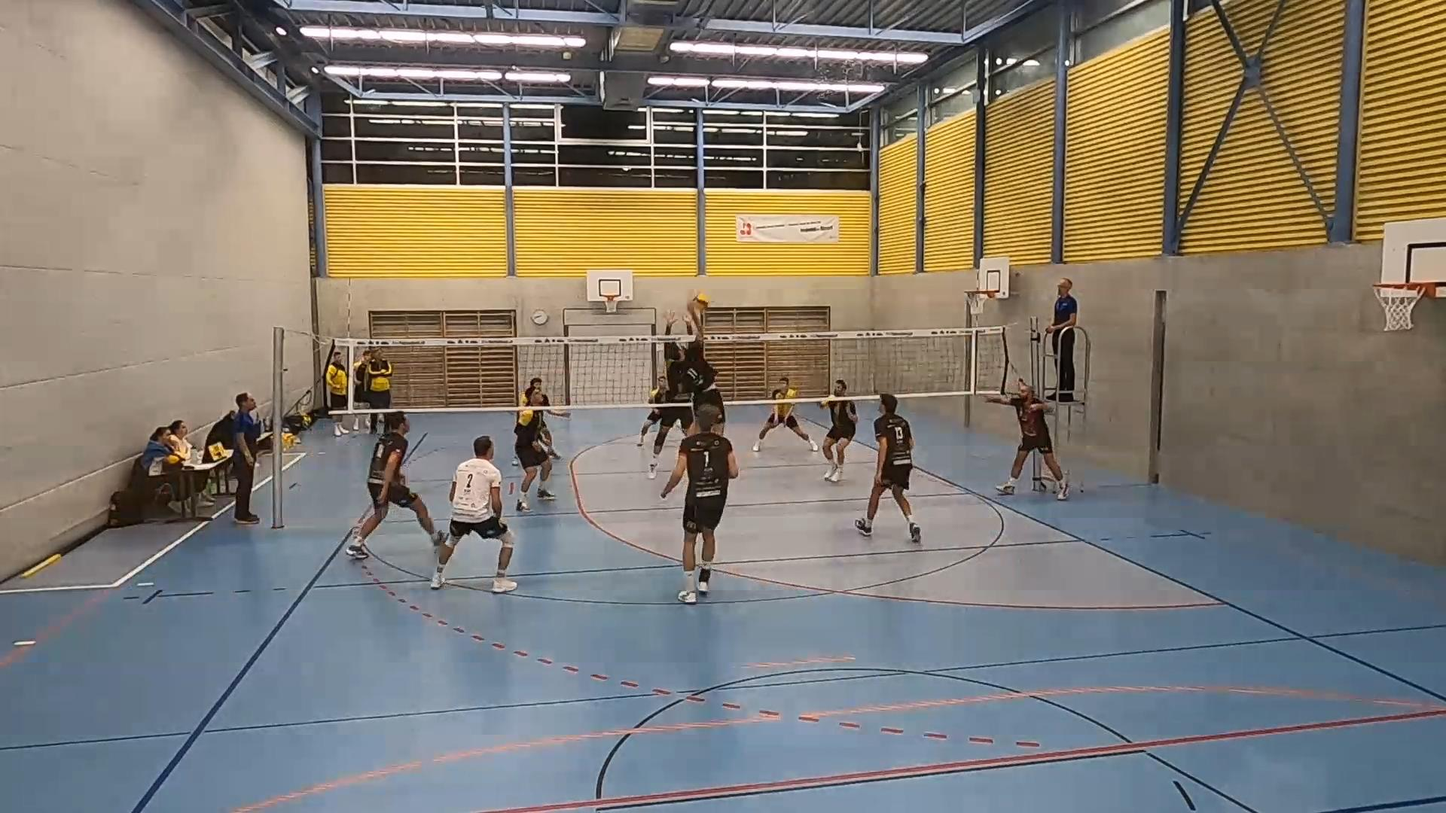Attack: (667, 313, 729, 439)
Player: (661, 406, 738, 604), (345, 412, 445, 559), (430, 437, 516, 592), (986, 380, 1069, 500), (855, 394, 920, 542), (648, 343, 693, 478), (752, 376, 819, 452), (514, 388, 554, 511), (822, 379, 856, 483), (636, 376, 667, 446), (519, 377, 566, 416)
ball: (694, 296, 714, 307)
